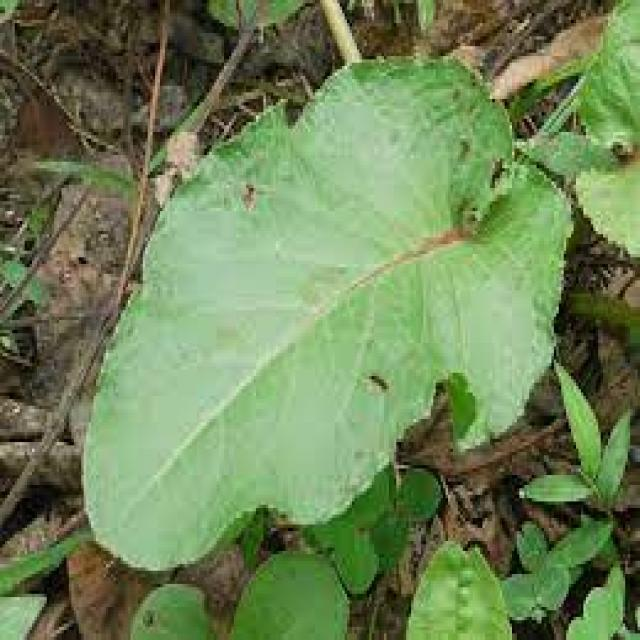organic waste: (79, 23, 576, 594)
